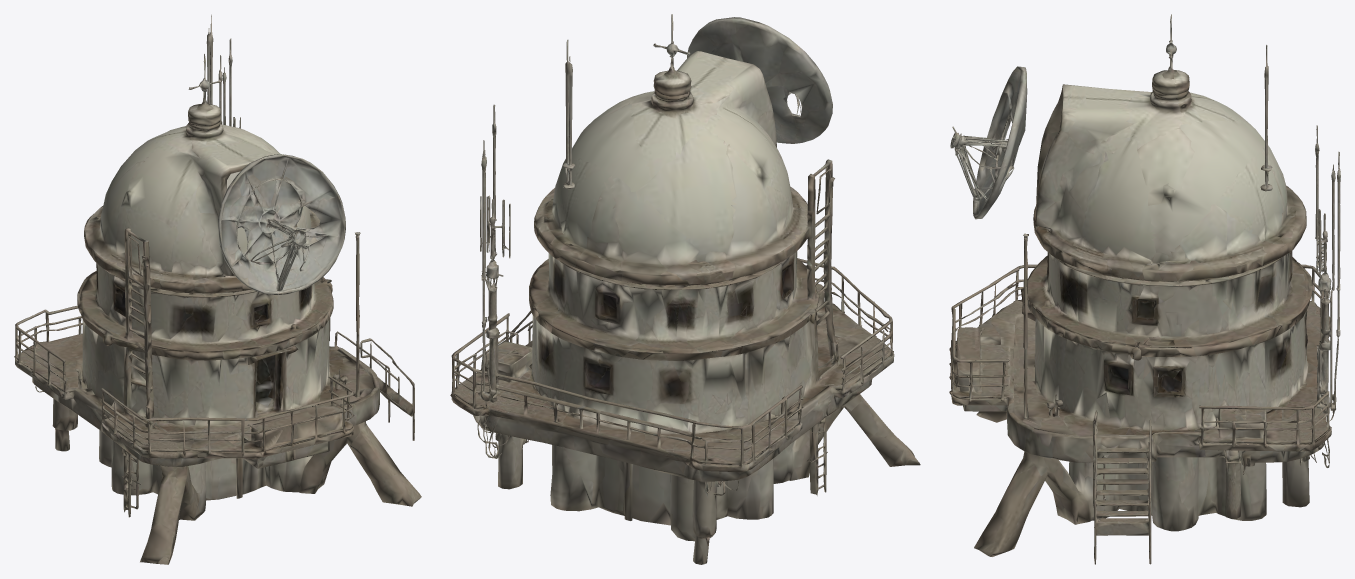
File: observatory.glb
3 renders of one model, left to right at view 1: azimuth 30°, elevation 25°; view 2: azimuth 150°, elevation 25°; view 3: azimuth 270°, elevation 25°, orthographic. The views are drawn at different scales.
Bounding box in the file's own units: 1.51 × 1.9 × 1.44.
Materials: 1 (1 with a texture image).
